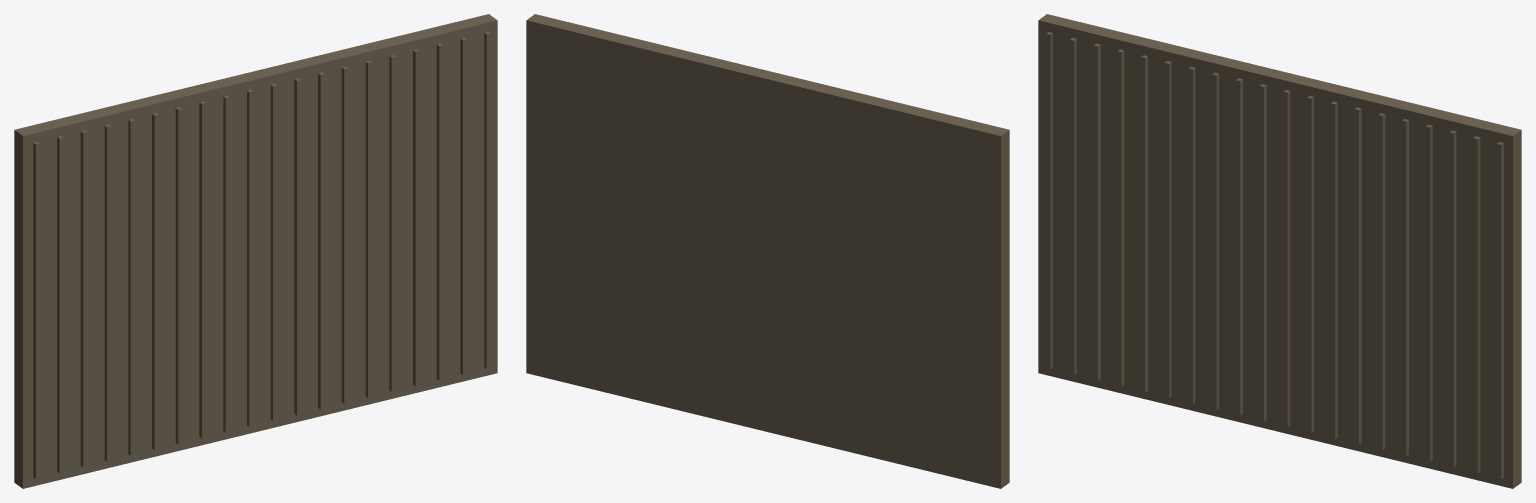
File: gate_leaf.glb
3 renders of one model, left to right at view 1: azimuth 30°, elevation 25°; view 2: azimuth 150°, elevation 25°; view 3: azimuth 330°, elevation 25°, orthographic.
Parts seen in each view (by area): view 1: gate_leaf; view 2: gate_leaf; view 3: gate_leaf.
Part boxes in pixels (x1,y1,x2,y2): gate_leaf: [14, 14, 497, 488]; gate_leaf: [526, 14, 1009, 488]; gate_leaf: [1038, 14, 1521, 488].
Bounding box in the file's own units: 3.8 × 2.7 × 0.155.
